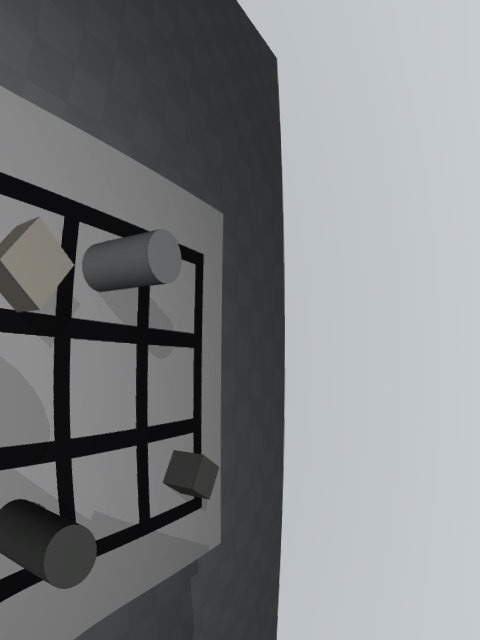can: (82, 229, 182, 292)
cube: (162, 450, 219, 500)
cylinder: (0, 499, 97, 589)
foam: (0, 217, 74, 312)
